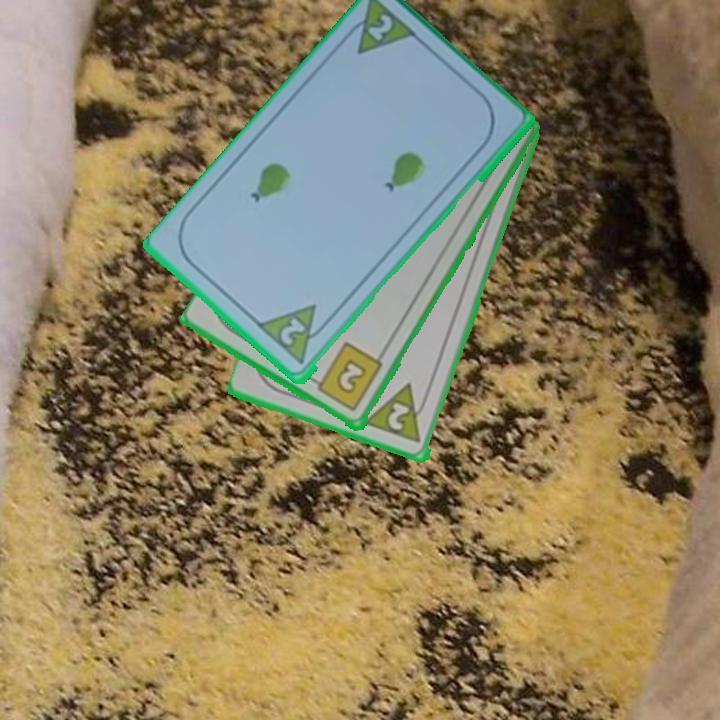2b: (307, 339, 386, 415)
2p: (363, 380, 434, 447), (276, 314, 308, 349), (364, 11, 396, 45)
